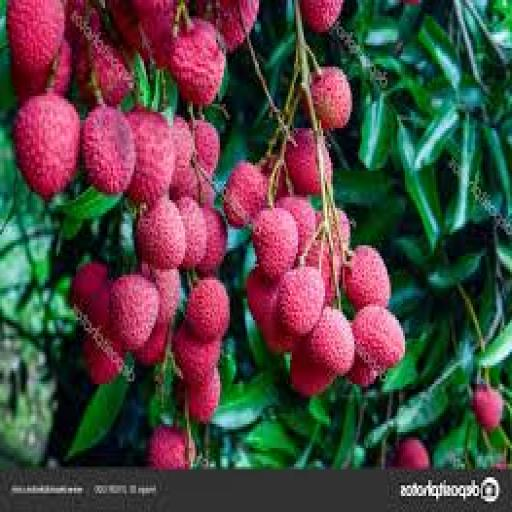lychee: (13, 94, 78, 199), (167, 19, 224, 106), (81, 107, 135, 194), (126, 110, 174, 207), (5, 0, 63, 71), (109, 275, 158, 351), (301, 307, 353, 375), (134, 198, 183, 269), (276, 267, 324, 335), (352, 307, 403, 370), (251, 208, 296, 279), (284, 128, 331, 194), (342, 246, 390, 309), (223, 163, 267, 229), (184, 278, 228, 343), (173, 326, 220, 386), (309, 67, 351, 130), (276, 198, 316, 255), (175, 198, 205, 269), (196, 206, 226, 274), (147, 427, 193, 469), (184, 368, 218, 423), (471, 384, 503, 431), (299, 0, 341, 31), (393, 438, 429, 469)
